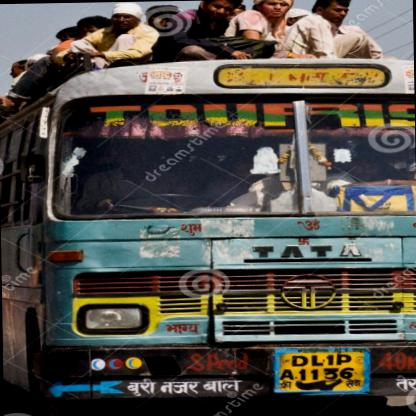bus: (0, 16, 415, 259)
